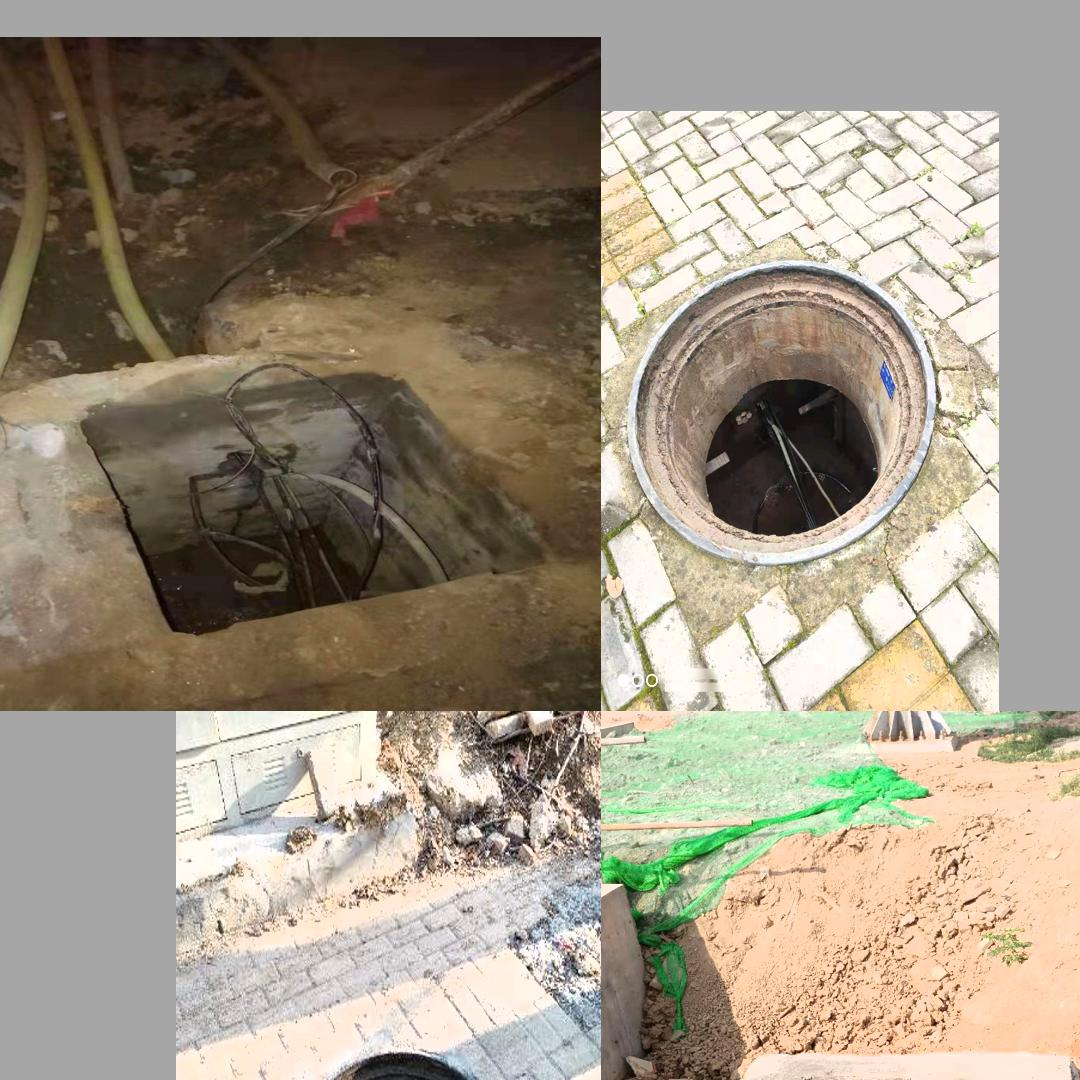lose: (22, 339, 574, 674), (624, 258, 937, 569), (619, 1054, 1080, 1080), (292, 1052, 520, 1080)
